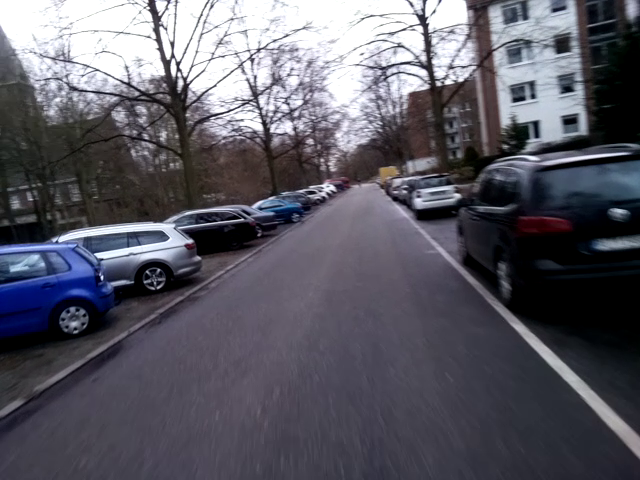car: (450, 139, 640, 336)
